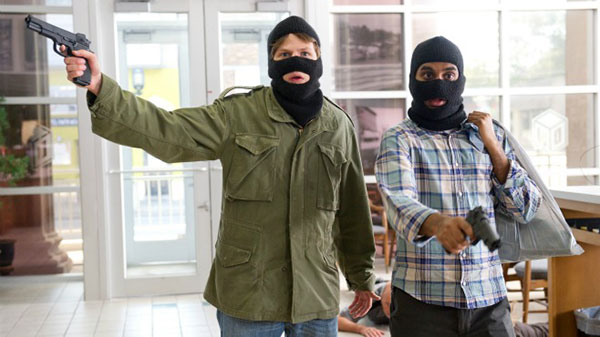gun: (16, 9, 111, 95), (436, 200, 512, 264)
